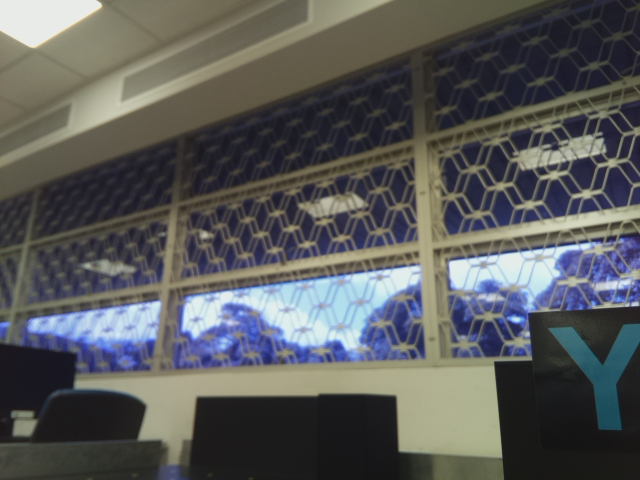y: (542, 323, 640, 438)
